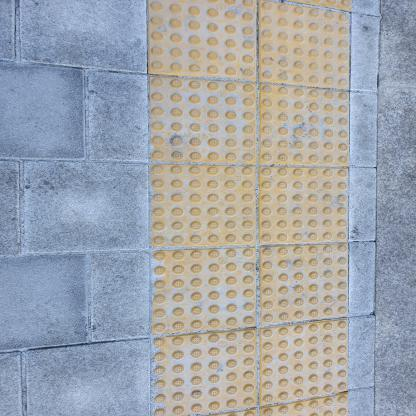podotacti: (128, 0, 356, 415)
